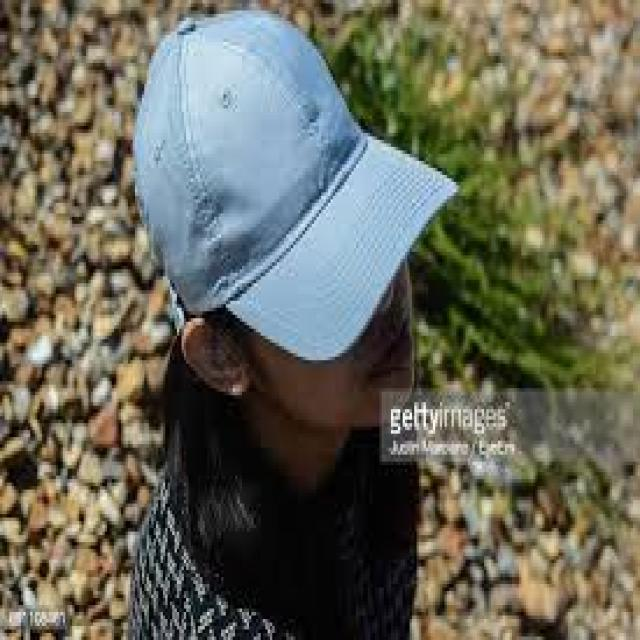3_gorra: (130, 10, 463, 368)
